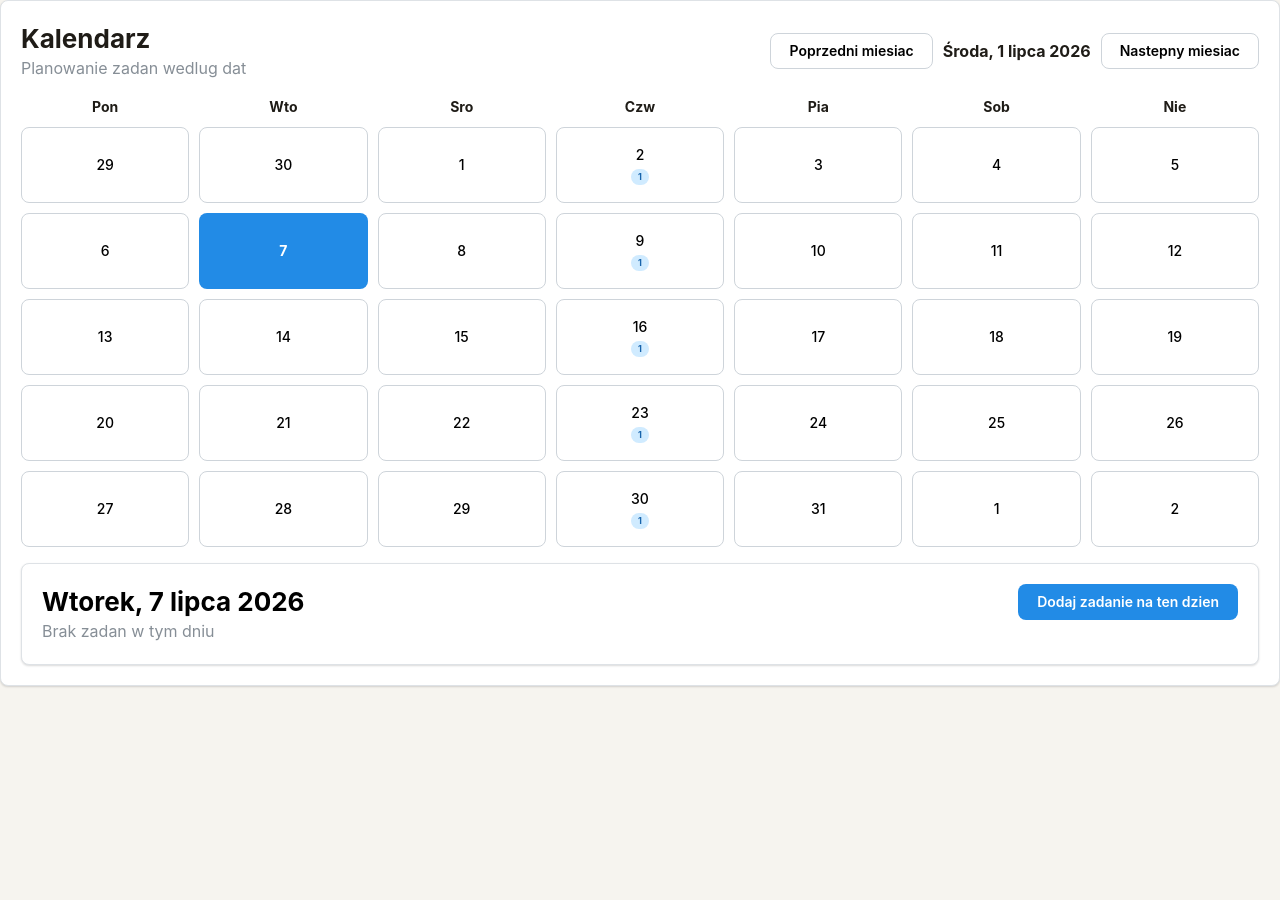
Test: CalendarView › shows future recurring occurrences
Step 1. Click the button named "Czwartek, 9 lipca 2026" → coordinates (640, 251), box x1=556 y1=213 x2=724 y2=289
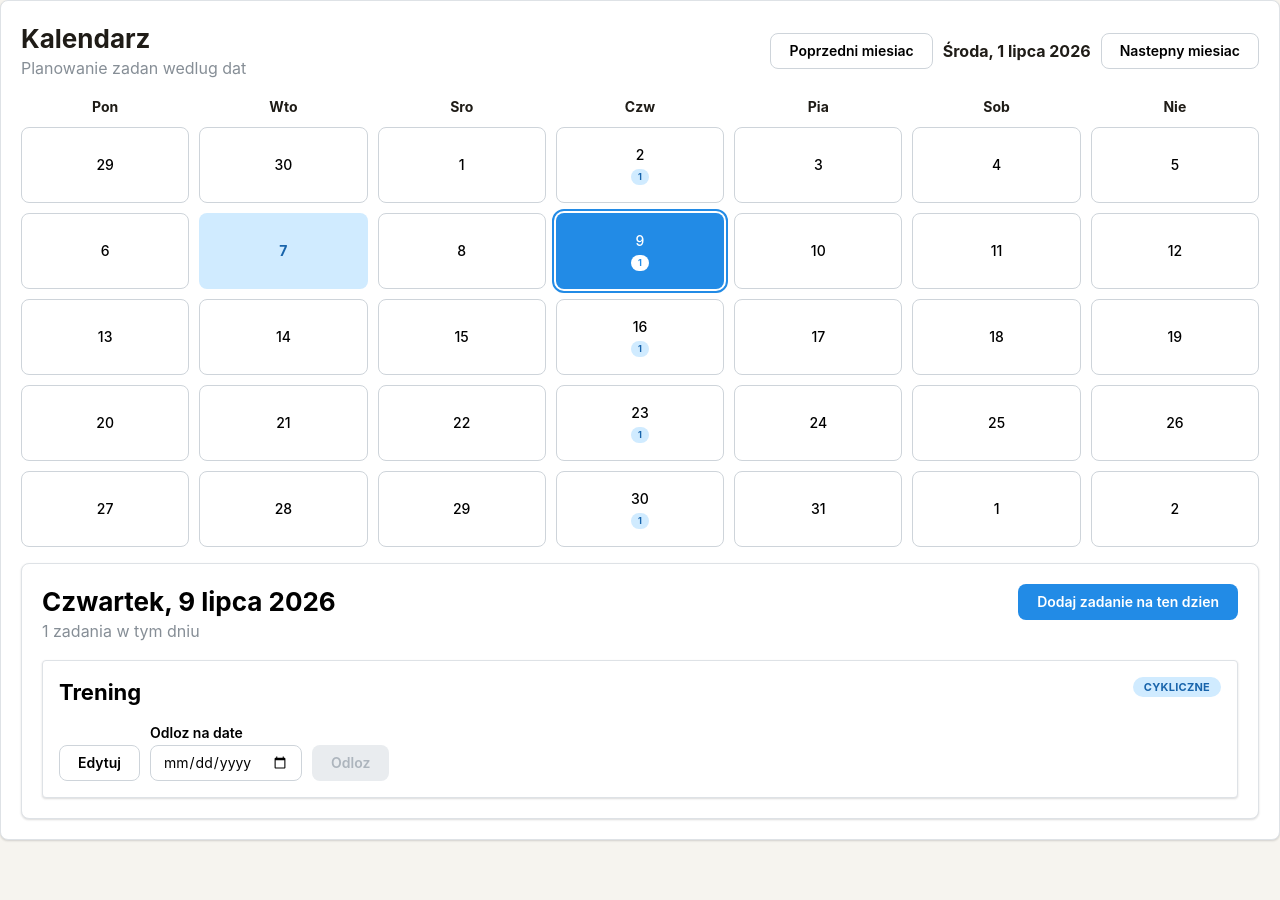
Now the heading "Trening" is shown, box x1=59 y1=677 x2=141 y2=708
Now the text "Cykliczne" is shown, box x1=1144 y1=678 x2=1210 y2=696
